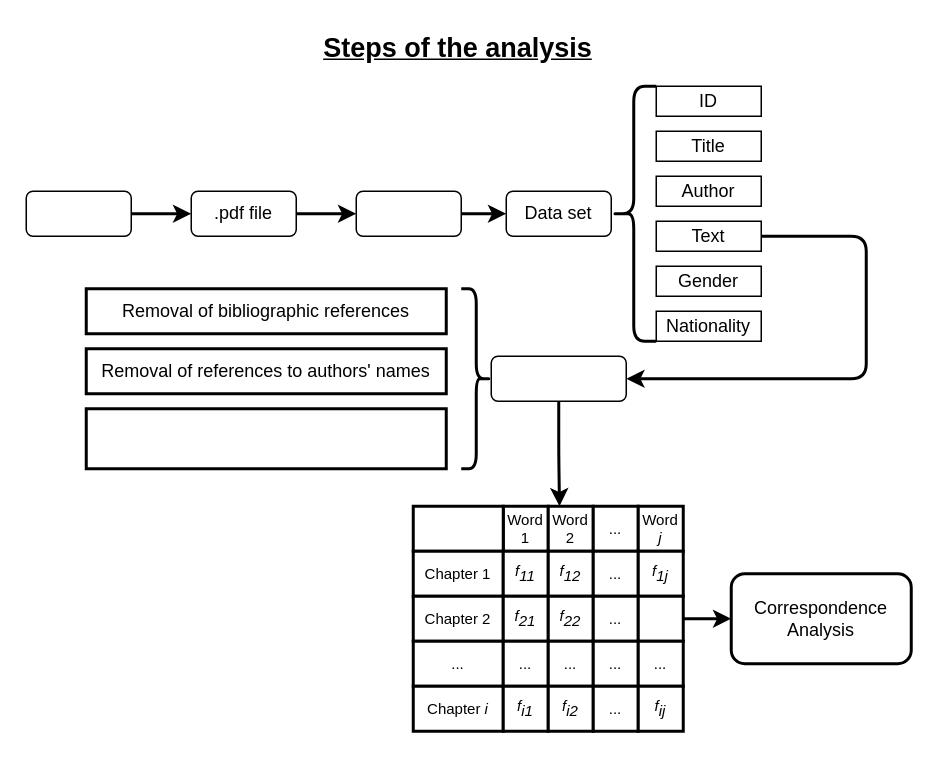
The diagram is 939 pixels wide and 758 high, and some of its shapes have lost their labels. Here are the shapes that lost their labels. From the top down, the centre of each, then its label:
pixel 78 213: Book
pixel 408 213: .html file
pixel 558 378: Pre-processing
pixel 265 438: Lemmatization via spaCy model: pt_core_news_lg
pixel 660 618: f 2j
